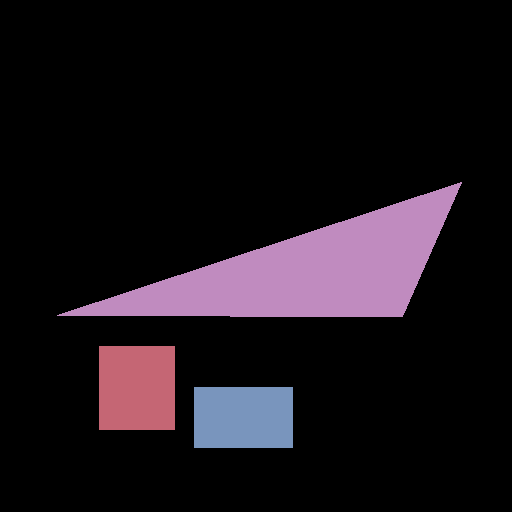rectangle: (194, 387, 292, 447)
square: (99, 346, 174, 429)
triangle: (57, 182, 461, 316)
